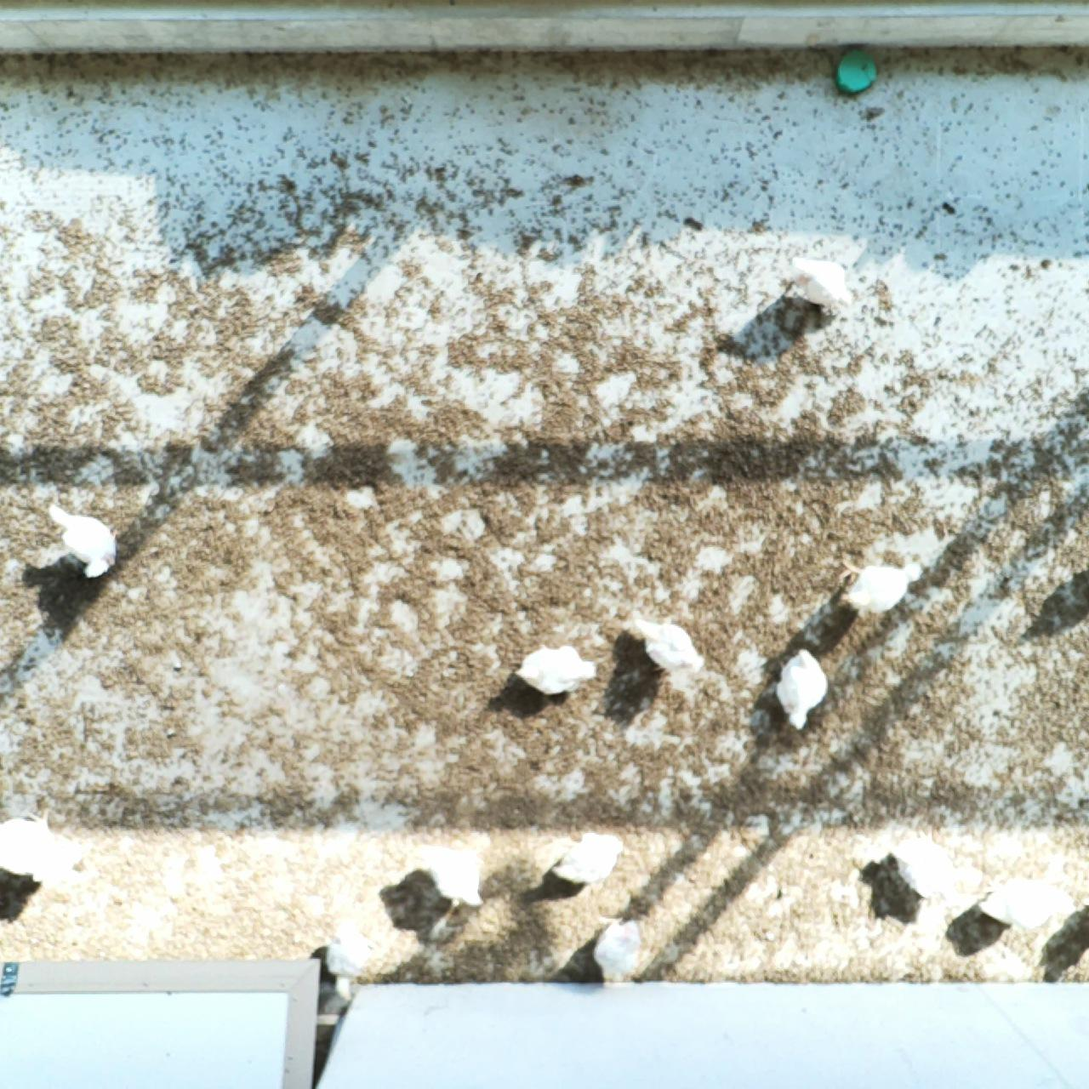chicken: (39, 501, 121, 585), (0, 807, 89, 884), (884, 823, 962, 907), (975, 873, 1082, 931), (828, 556, 927, 617), (411, 838, 491, 913), (770, 643, 836, 733), (509, 636, 602, 699), (629, 613, 709, 682), (549, 828, 626, 889), (786, 252, 859, 315), (324, 914, 375, 1002), (589, 915, 647, 985)
